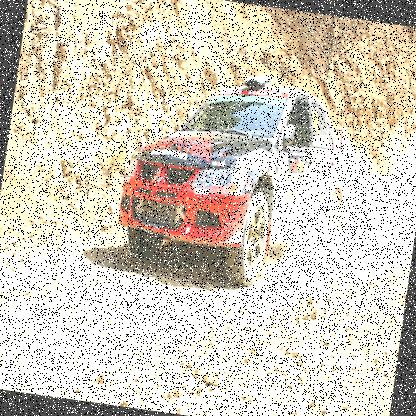Car: (110, 52, 359, 300)
